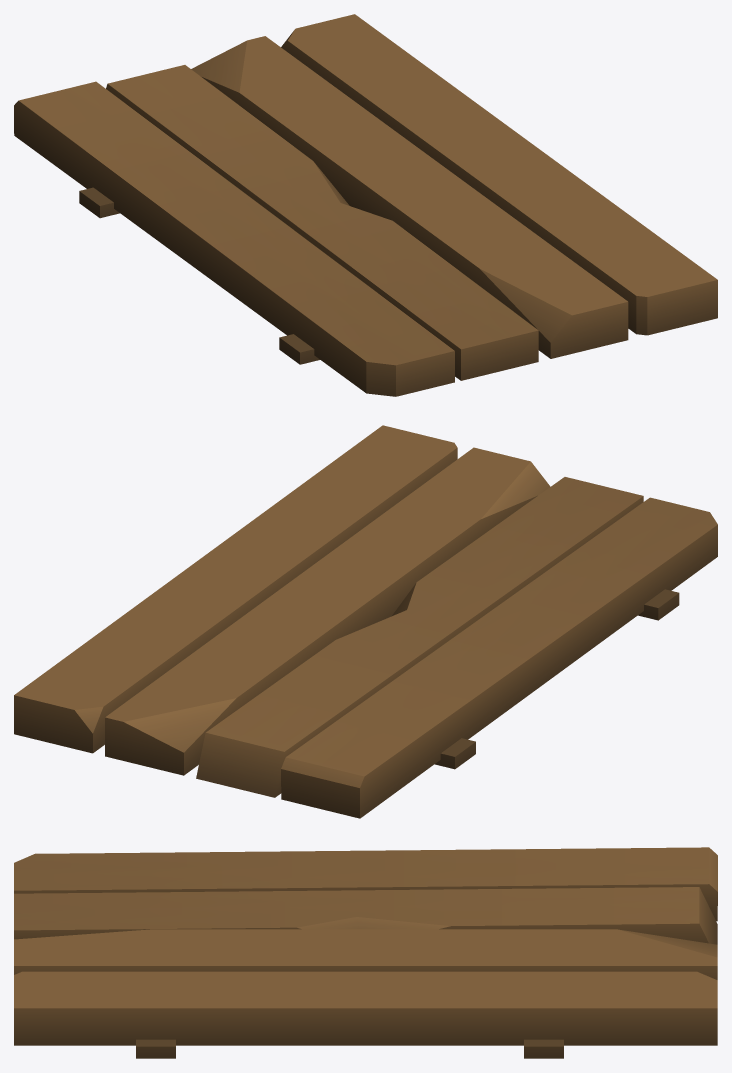
Rendered from Wood001.fbx.
The picture shows the model from 3 angles, top to bottom: view 1: azimuth 30°, elevation 25°; view 2: azimuth 150°, elevation 25°; view 3: azimuth 270°, elevation 25°; orthographic projection. The views are drawn at different scales.
Visible parts, largest first — view 1: Cube.011; view 2: Cube.011; view 3: Cube.011.
Boxes of the visible parts, x1,y1,x2,y2 form: Cube.011: [14, 14, 717, 396]; Cube.011: [14, 425, 717, 818]; Cube.011: [14, 847, 717, 1058].
Size of the model in its own units: 194 by 22.23 by 329.
